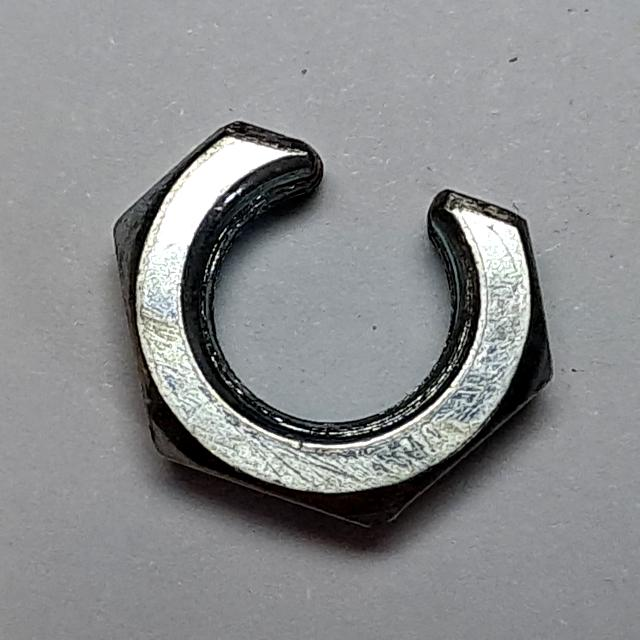Fracture: (102, 102, 570, 548)
